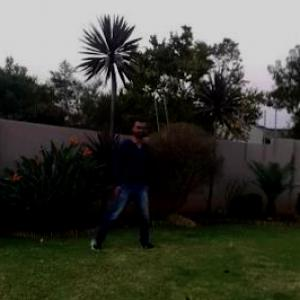follow: (114, 112, 150, 238)
